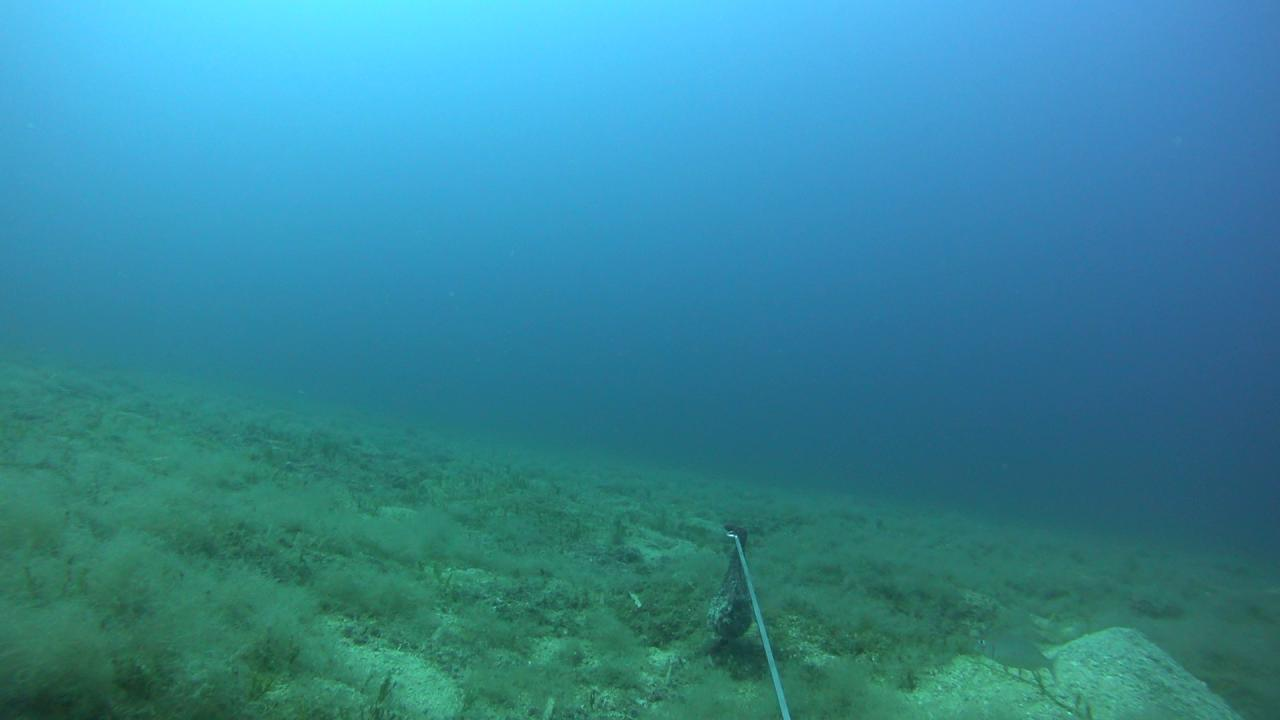pagellus: (975, 628, 1062, 683)
